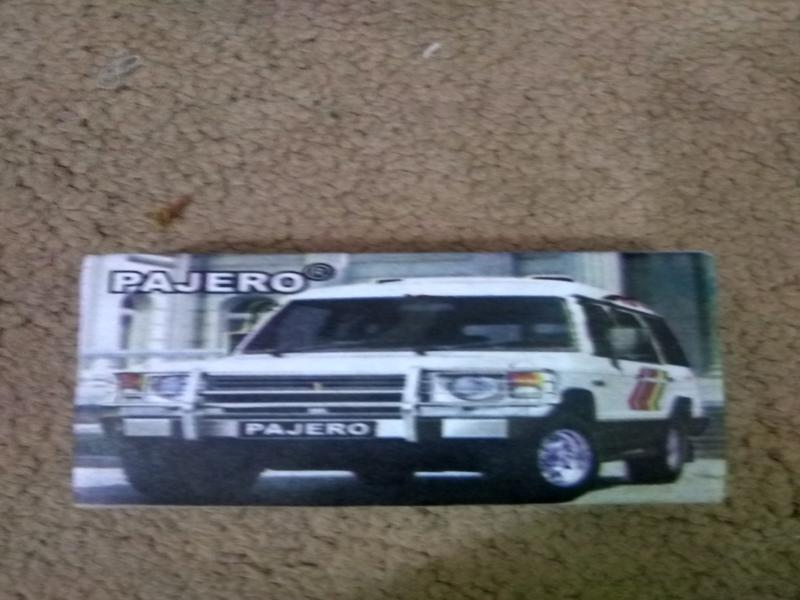pajero: (74, 254, 726, 501)
